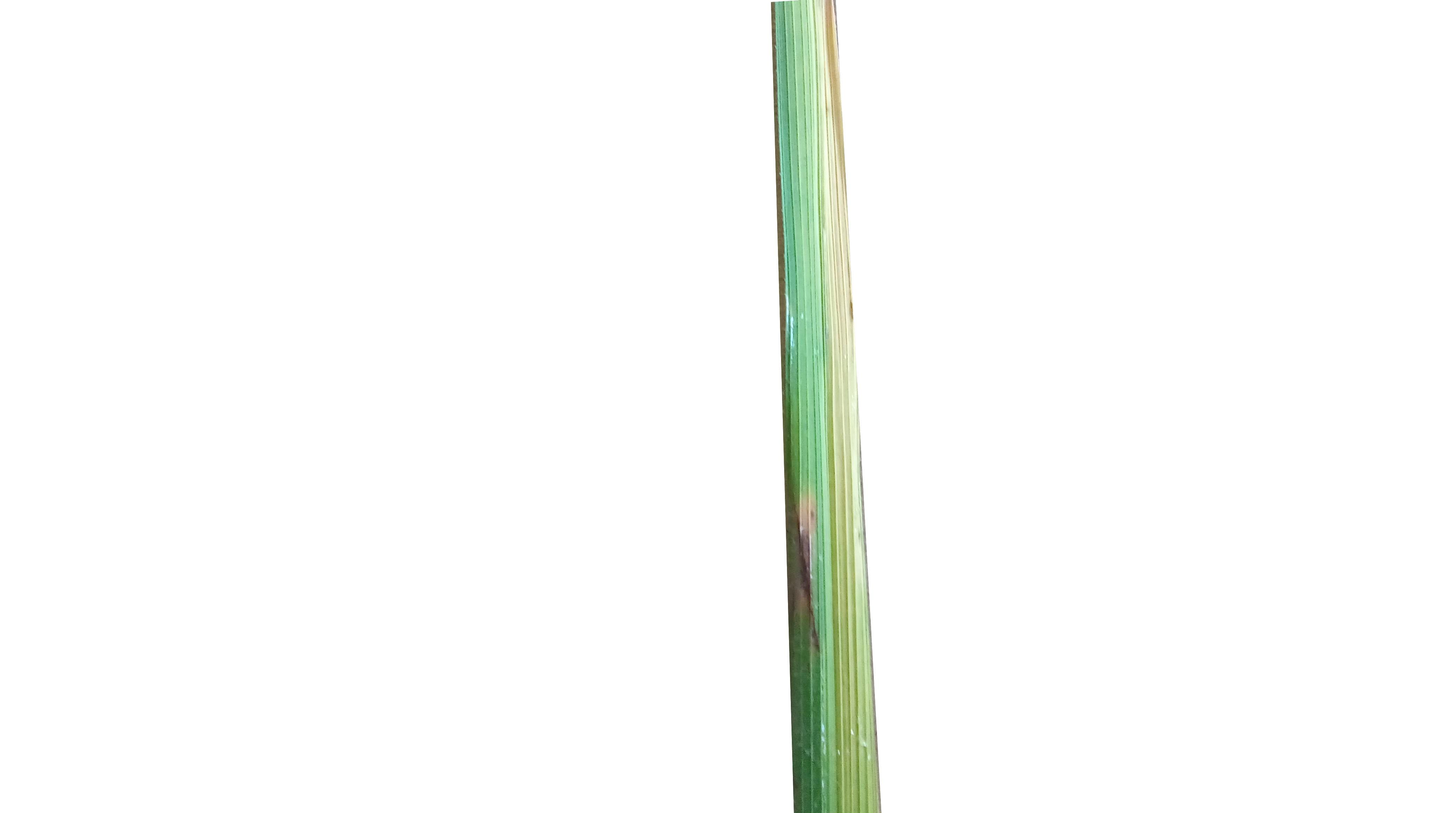Tungro: (789, 483, 824, 644)
